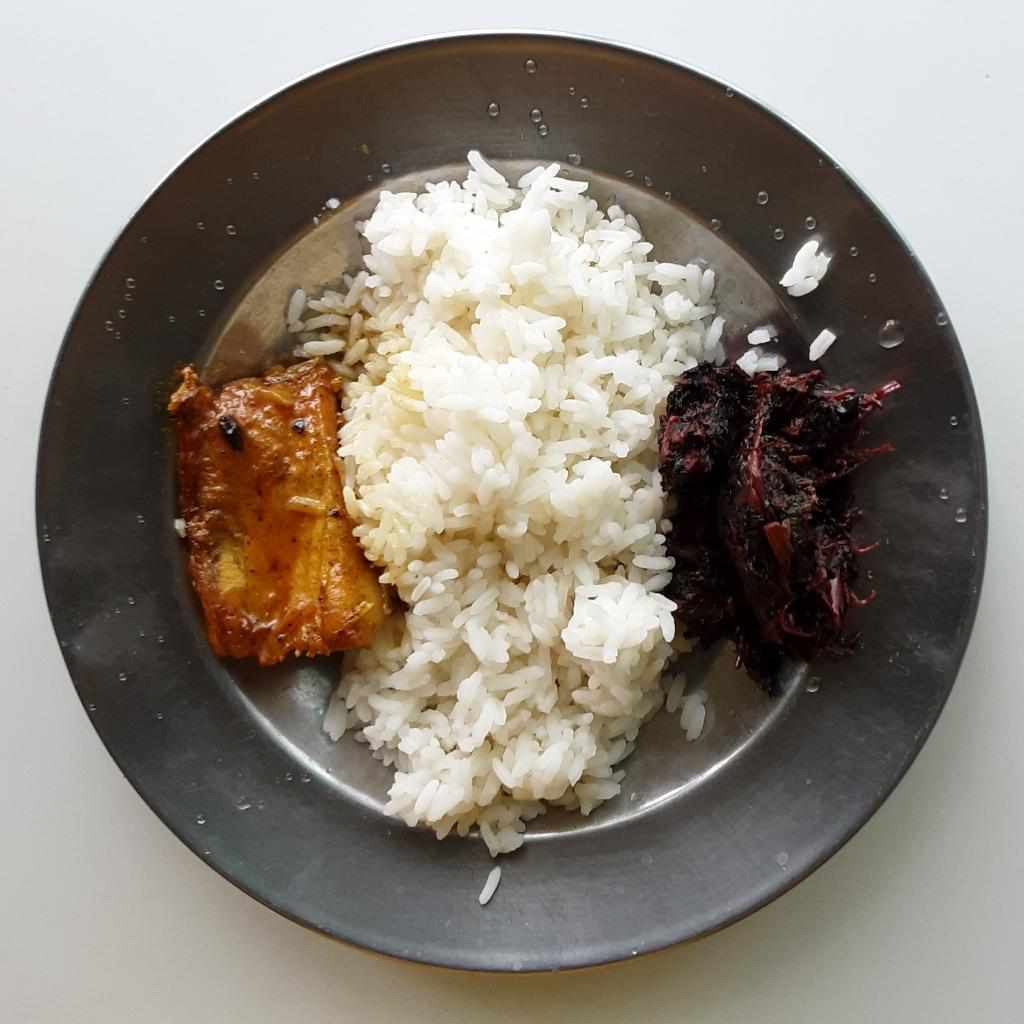fish: (165, 362, 403, 667)
lal-shak: (651, 364, 905, 702)
rice: (288, 145, 730, 911), (742, 323, 836, 365), (779, 241, 837, 299)
